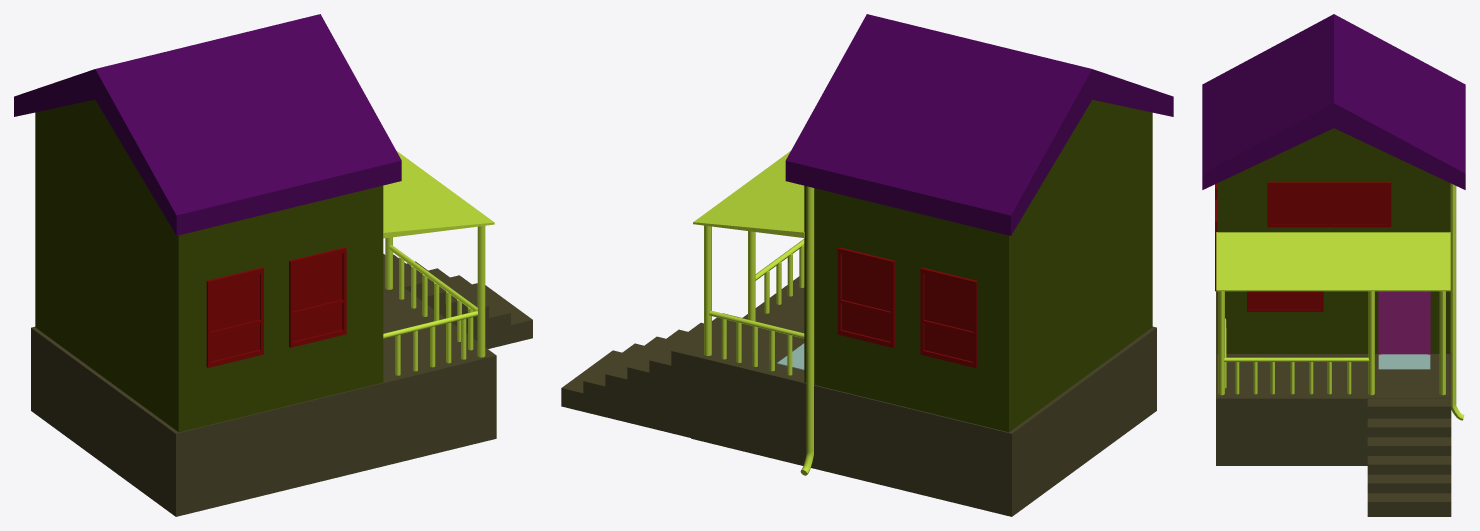
The model's file is ART-MOD-A-SMALLHOUSE-001.FBX.
3 renders of one model, left to right at view 1: azimuth 30°, elevation 25°; view 2: azimuth 150°, elevation 25°; view 3: azimuth 270°, elevation 25°, orthographic. The views are drawn at different scales.
Parts seen in each view (by area): view 1: Box003; view 2: Box003; view 3: Box003.
Boxes of the visible parts, x1,y1,x2,y2 form: Box003: [14, 14, 532, 516]; Box003: [561, 14, 1173, 516]; Box003: [1202, 14, 1465, 516].
Size of the model in its own units: 681 by 567 by 418.
